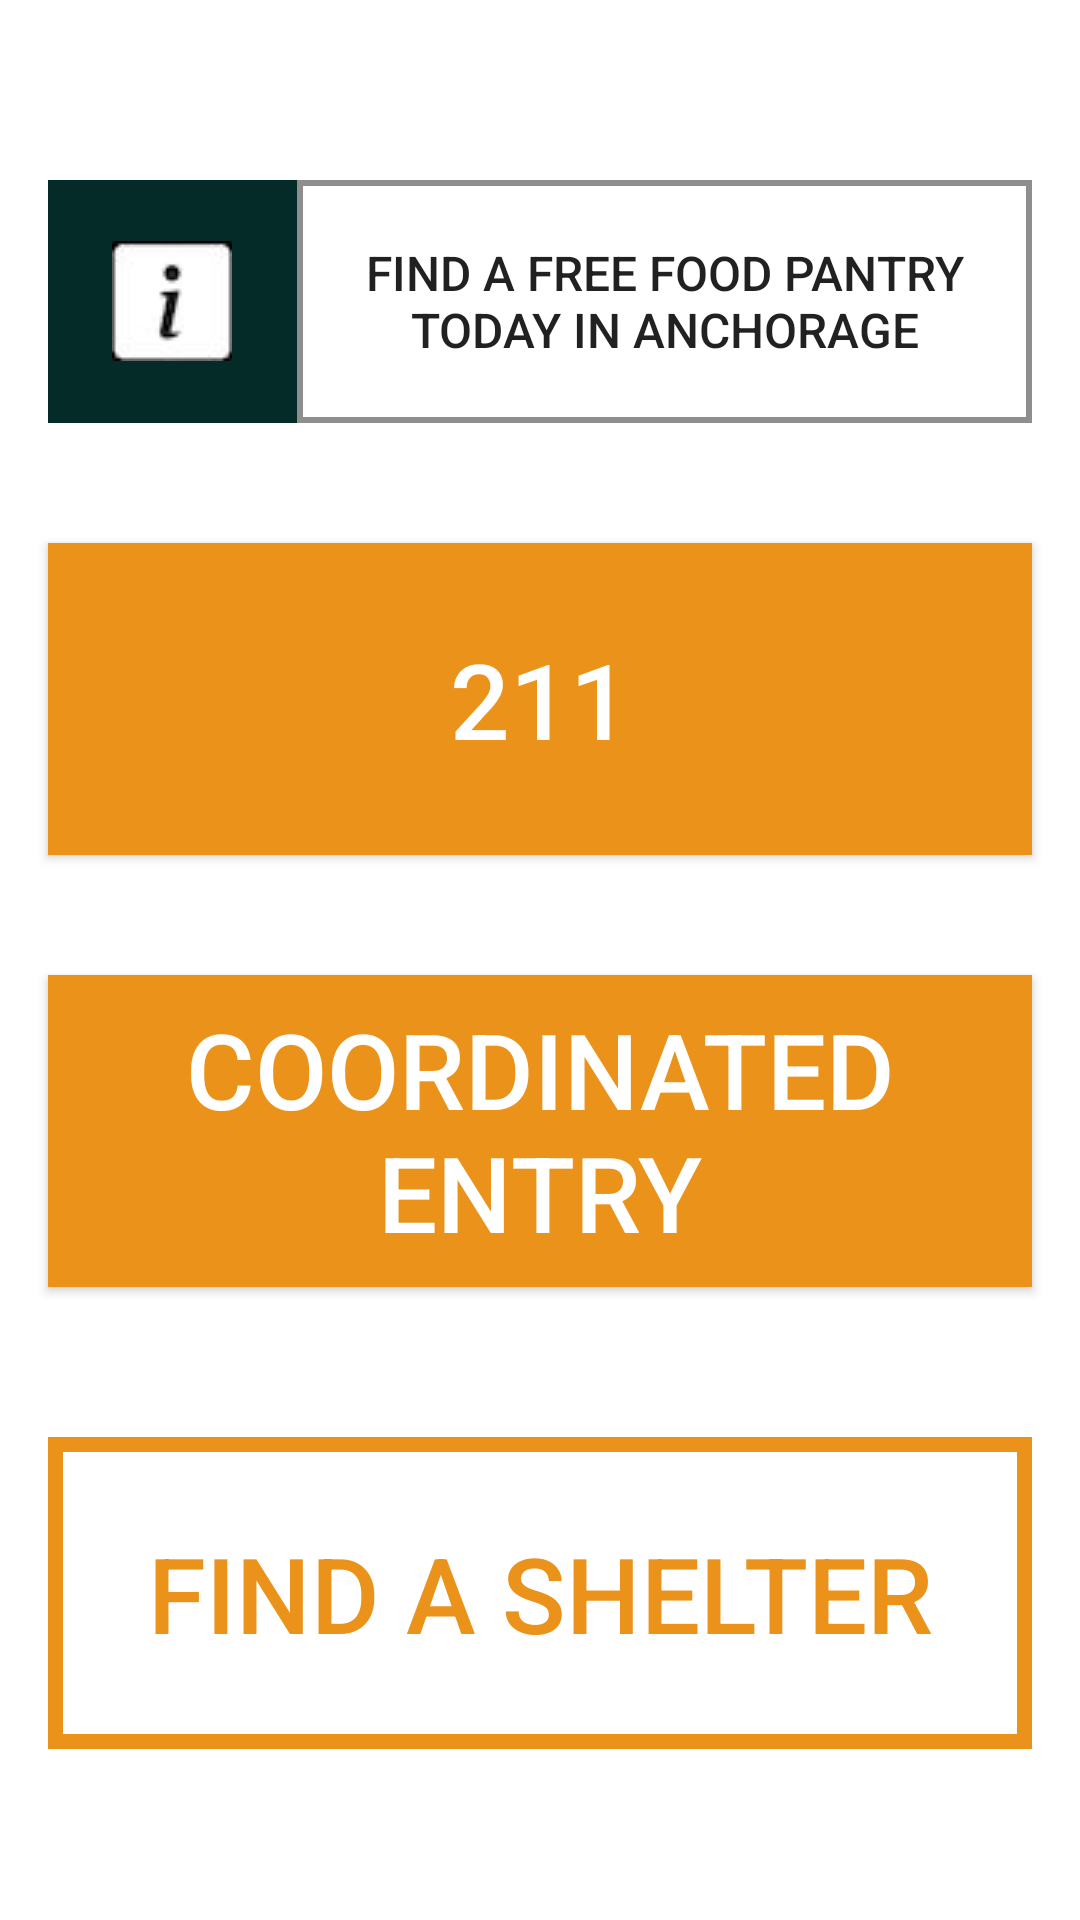

Screen size 1080×1920. Icon name, then its box in pixels as bbox=(x1, y1, x2, y2):
info: bbox=(112, 241, 232, 361)
